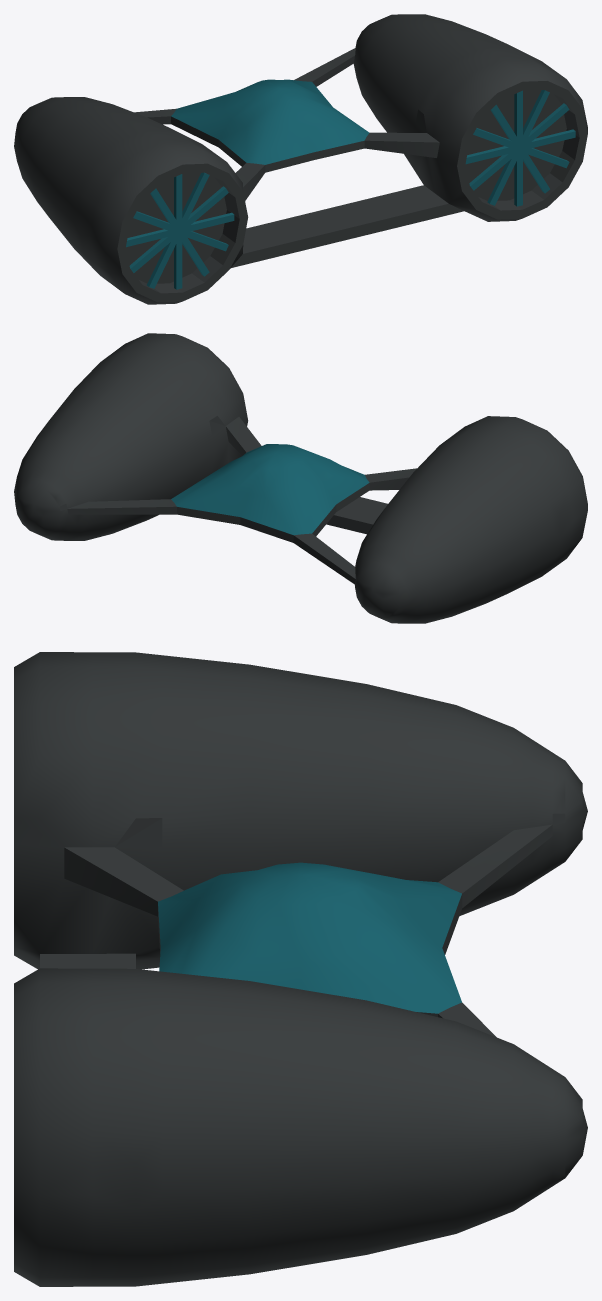
File: Ally_Ship.FBX
3 renders of one model, top to bottom at view 1: azimuth 30°, elevation 25°; view 2: azimuth 150°, elevation 25°; view 3: azimuth 270°, elevation 25°, orthographic. The views are drawn at different scales.
Parts seen in each view (by area): view 1: Cylinder001; view 2: Cylinder001; view 3: Cylinder001.
Part boxes in pixels (x1,y1,x2,y2): Cylinder001: (14, 14, 587, 304); Cylinder001: (14, 333, 587, 623); Cylinder001: (14, 652, 587, 1286).
Size of the model in its own units: 30.82 by 9.21 by 16.57.
Materials: 1 (1 with a texture image).
